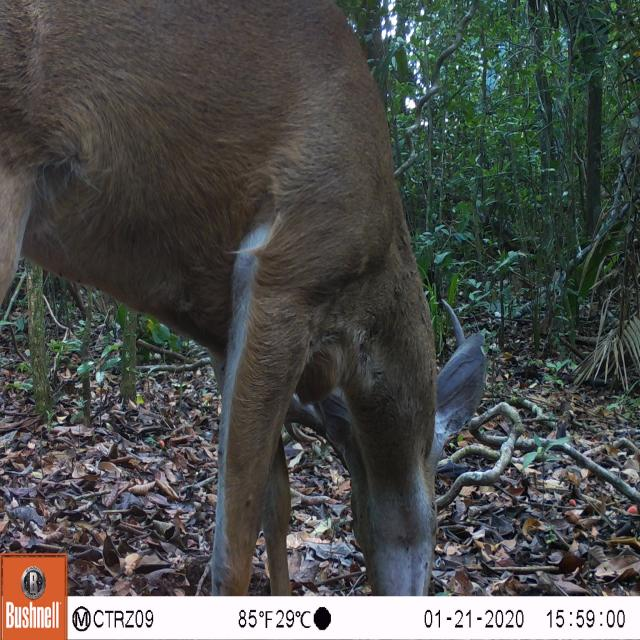White-tailed Deer: (1, 0, 489, 594)
